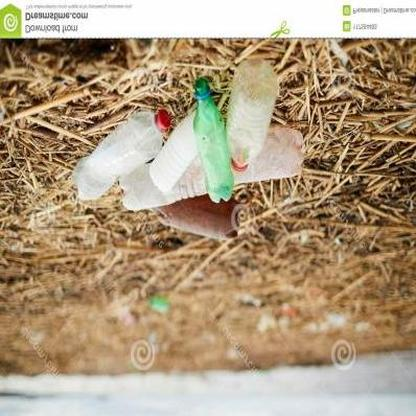plastic bottle: (70, 111, 171, 201), (194, 80, 234, 204), (227, 59, 271, 171)
